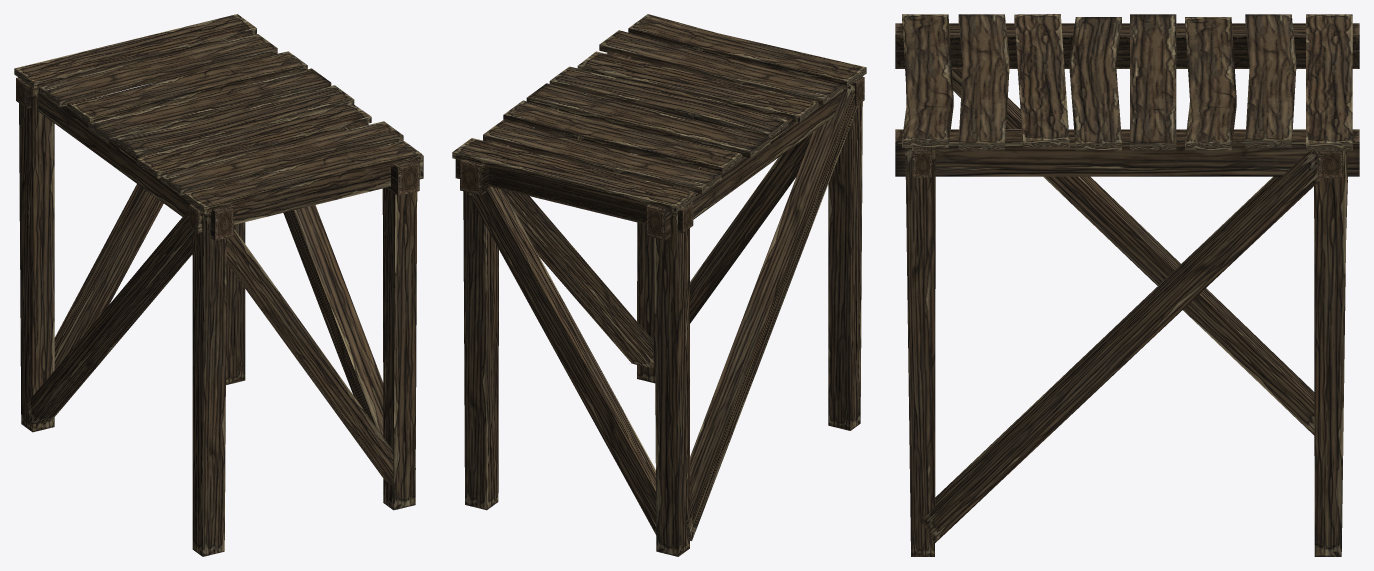
Rendered from Wood_4X6X6_02.fbx.
3 renders of one model, left to right at view 1: azimuth 30°, elevation 25°; view 2: azimuth 150°, elevation 25°; view 3: azimuth 270°, elevation 25°, orthographic. The views are drawn at different scales.
Parts seen in each view (by area): view 1: Wood_4X6X6_02; view 2: Wood_4X6X6_02; view 3: Wood_4X6X6_02.
Boxes of the visible parts, <box> form: Wood_4X6X6_02: <box>14,14,423,556</box>; Wood_4X6X6_02: <box>452,14,866,556</box>; Wood_4X6X6_02: <box>895,14,1359,556</box>.
Bounding box in the file's own units: 4 × 5.97 × 6.
